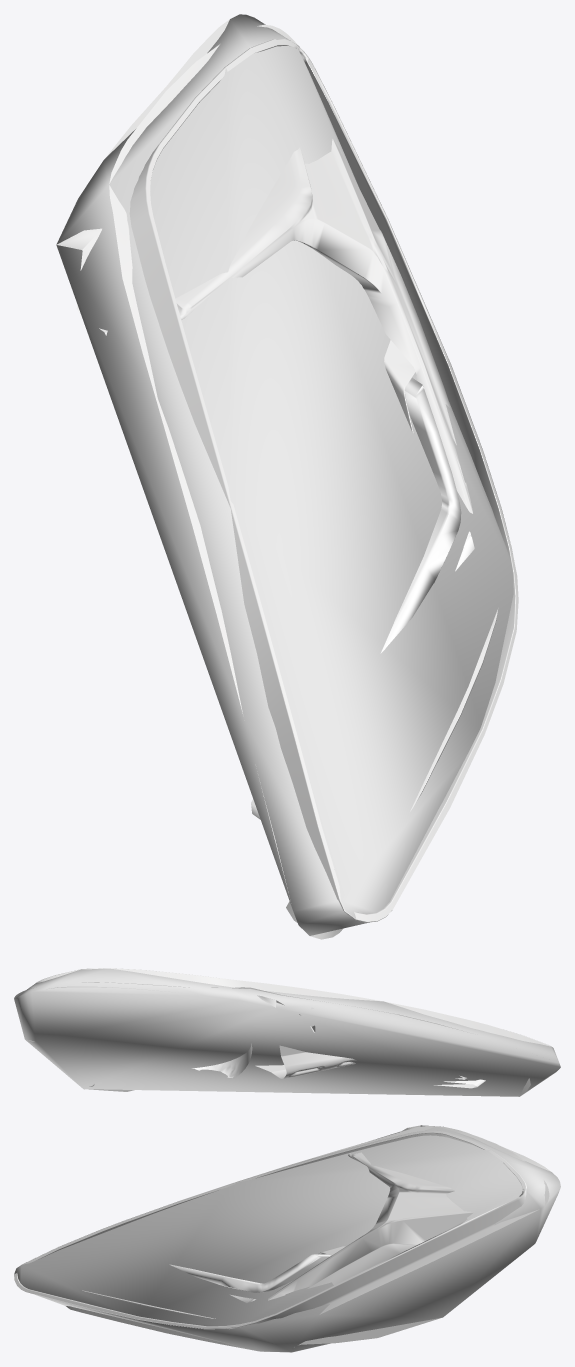
3 renders of one model, top to bottom at view 1: azimuth 30°, elevation 25°; view 2: azimuth 150°, elevation 25°; view 3: azimuth 270°, elevation 25°, orthographic. The views are drawn at different scales.
Parts seen in each view (by area): view 1: light_eclipse_head_r_01_col, light_eclipse_head_r_01; view 2: light_eclipse_head_r_01_col, light_eclipse_head_r_01; view 3: light_eclipse_head_r_01_col, light_eclipse_head_r_01.
Part boxes in pixels (x1,y1,x2,y2): light_eclipse_head_r_01_col: [56, 14, 513, 935]; light_eclipse_head_r_01: [56, 19, 518, 939]; light_eclipse_head_r_01_col: [14, 968, 560, 1096]; light_eclipse_head_r_01: [14, 968, 552, 1096]; light_eclipse_head_r_01_col: [14, 1125, 560, 1352]; light_eclipse_head_r_01: [14, 1125, 550, 1351].
Bounding box in the file's own units: 0.261 × 0.228 × 0.4792.
3 materials, 2 textured.
